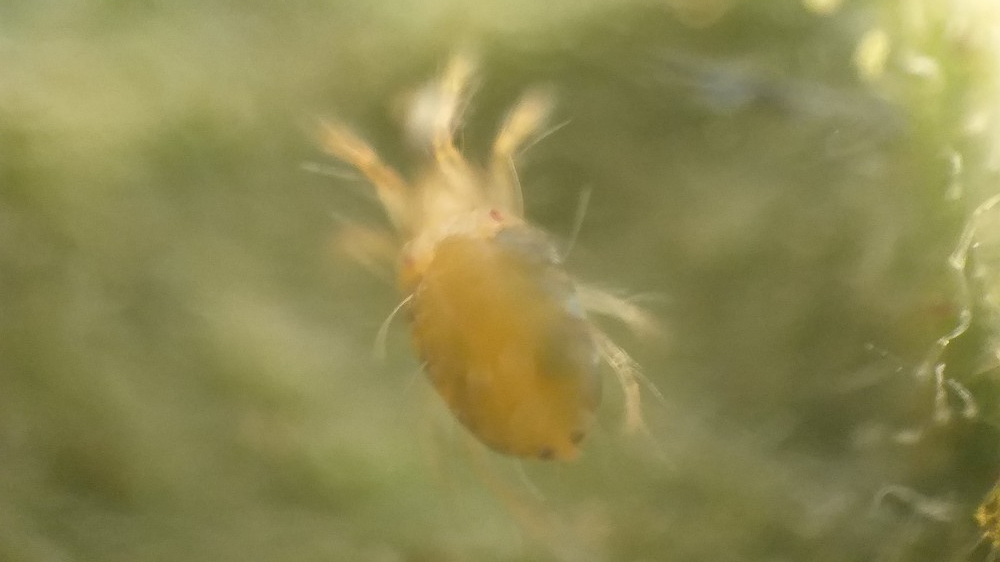Aracnido Rojo: (319, 47, 730, 519)
